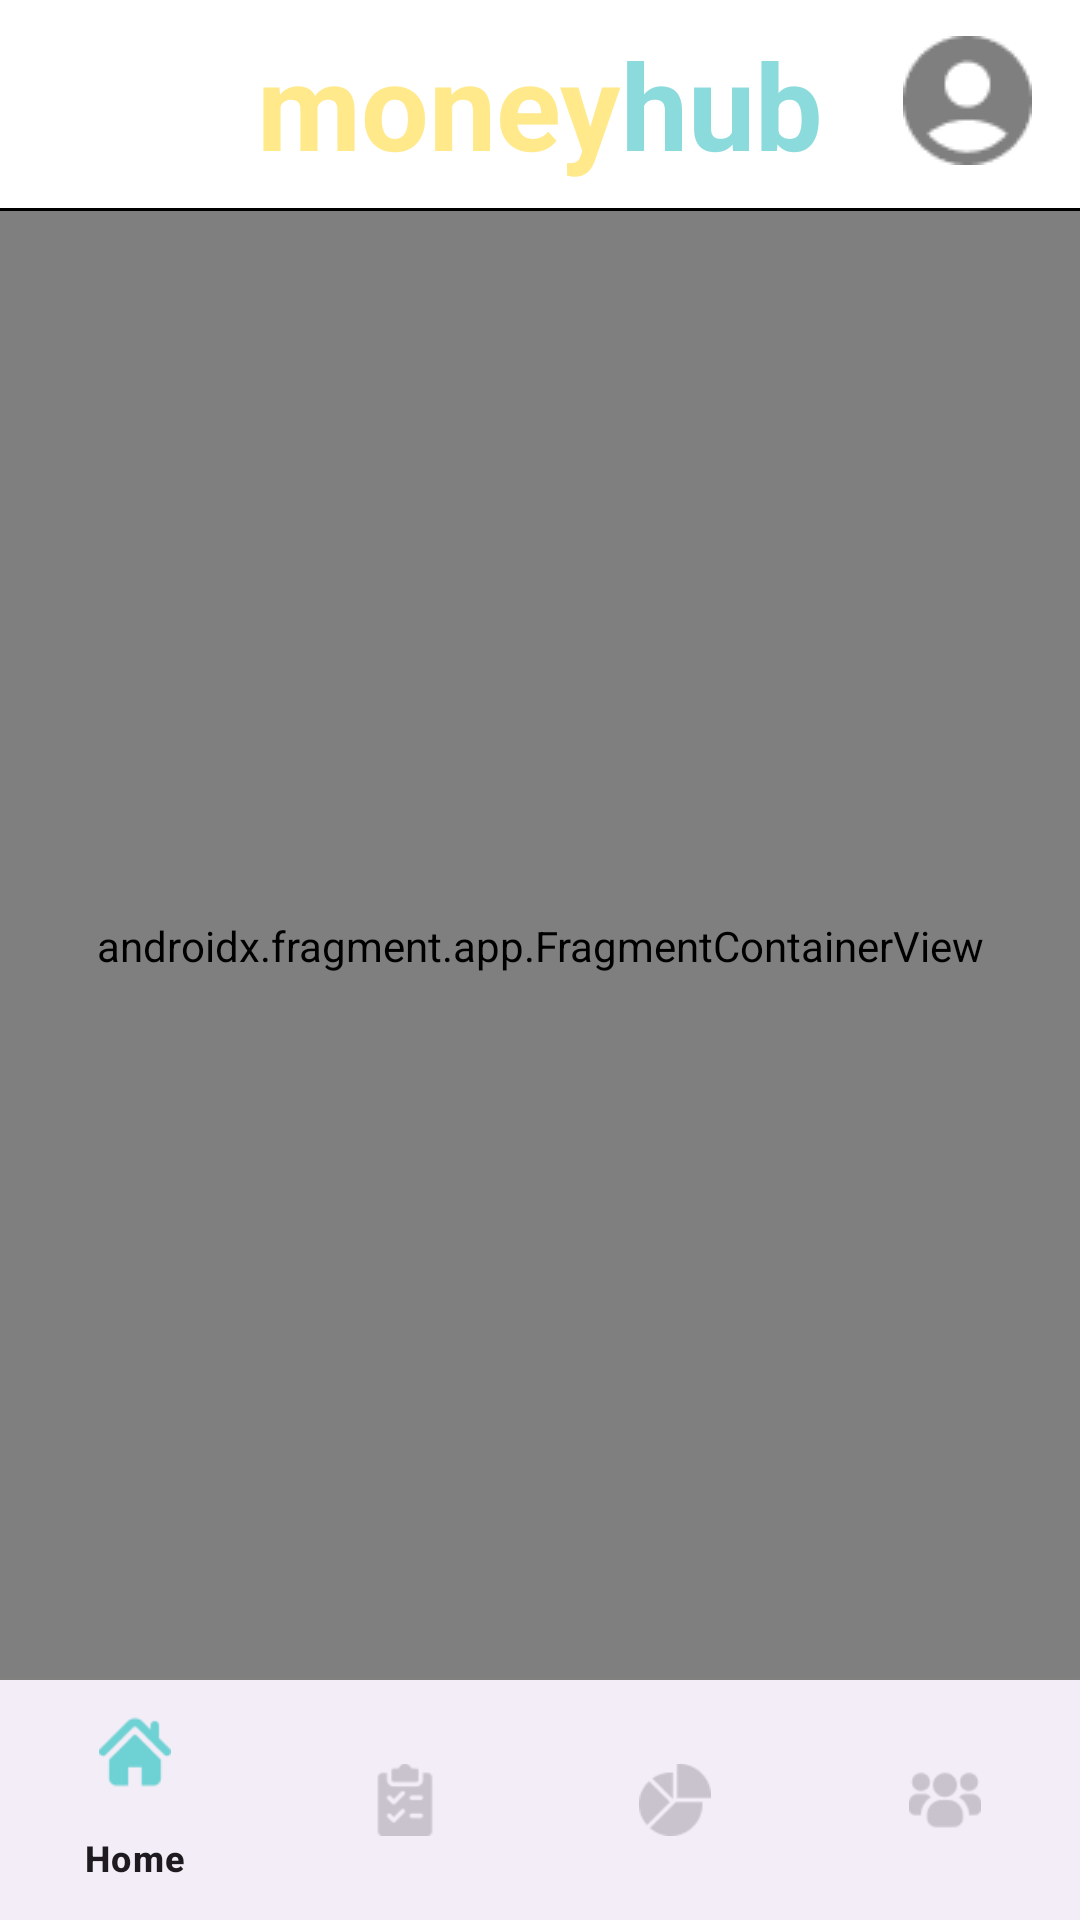

Locate icon controls on the screen. Image size 1080 x 1920, boxes as (x1, y1, x2, y2).
mypage: (903, 36, 1032, 165)
